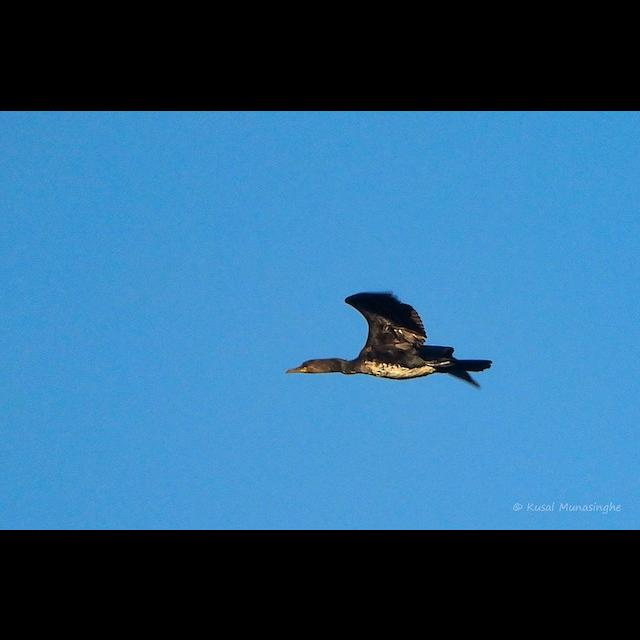cormorant: (284, 286, 511, 394)
